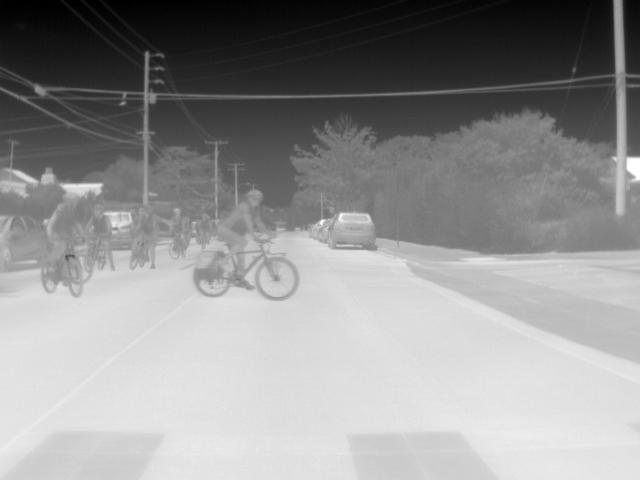car: (1, 213, 48, 271), (326, 210, 377, 248), (98, 208, 140, 250), (312, 216, 332, 238), (319, 221, 332, 243)
person: (213, 190, 274, 290), (47, 192, 89, 280), (88, 203, 118, 271), (138, 205, 166, 270), (165, 206, 188, 250), (194, 212, 214, 246)
